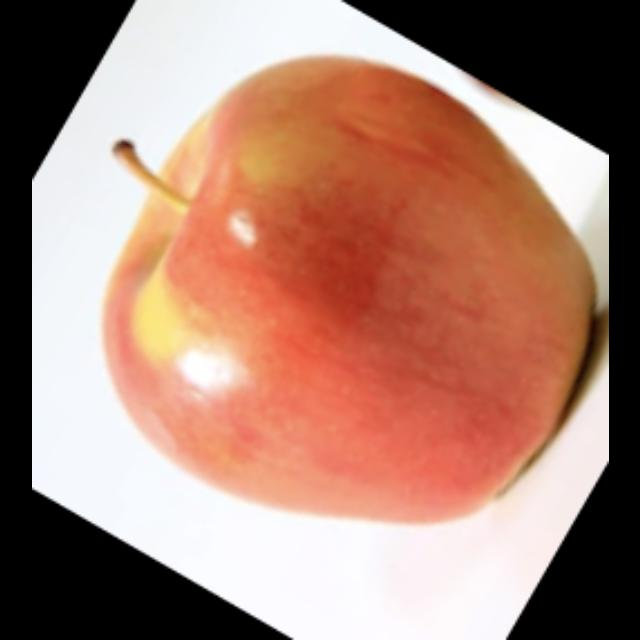Apel Segar: (87, 141, 597, 529)
